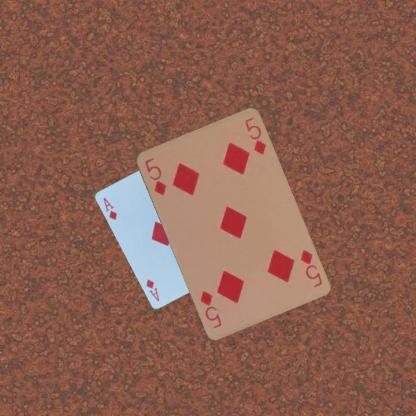5d: (297, 247, 324, 289), (142, 155, 168, 197)
Ad: (101, 195, 119, 221)
